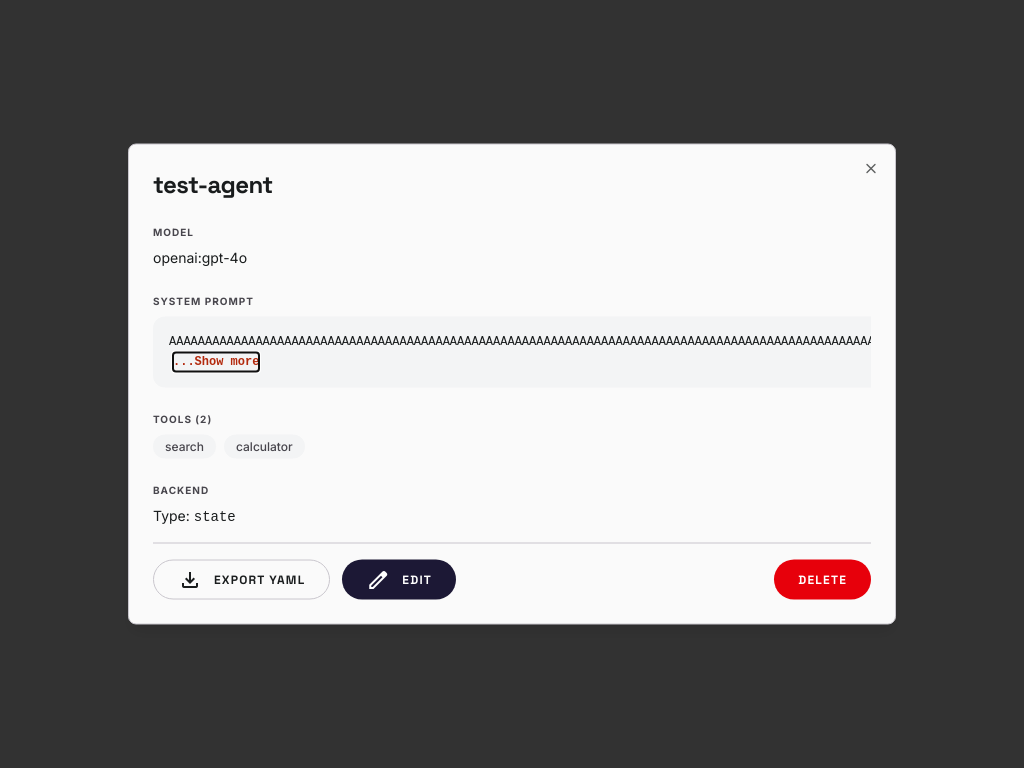
AgentConfigViewer › expands and collapses long system prompt
Click the button "...Show more".
click(216, 362)  # box [173, 352, 259, 372]
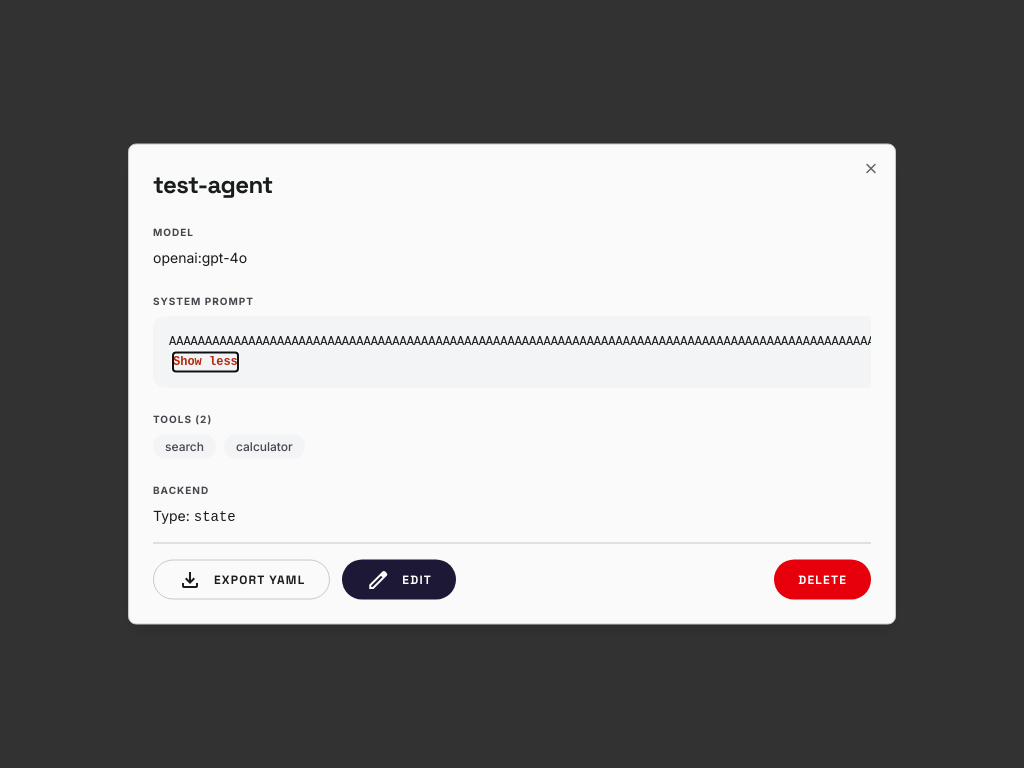
Now the button "Show less" is shown, box [173, 352, 238, 372]
